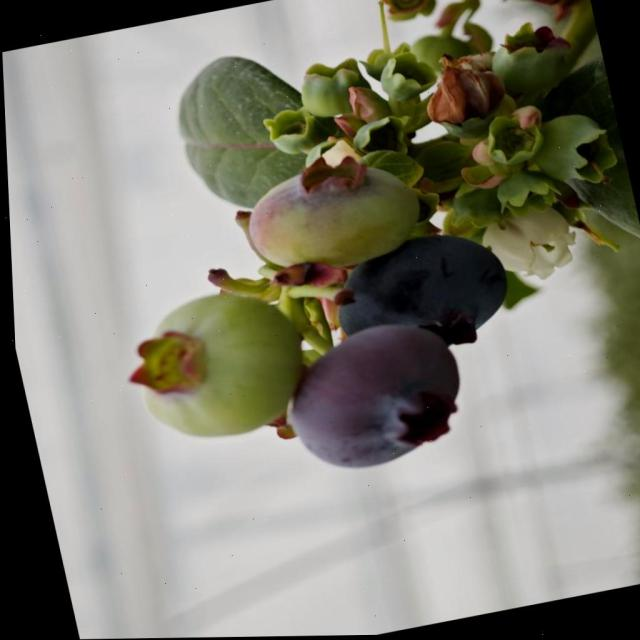RipeBlueBerry: (321, 222, 517, 364)
Semi-RipeBlueBerry: (268, 310, 474, 480)
UnripeBlueBerry: (114, 280, 314, 456), (232, 151, 428, 281)
